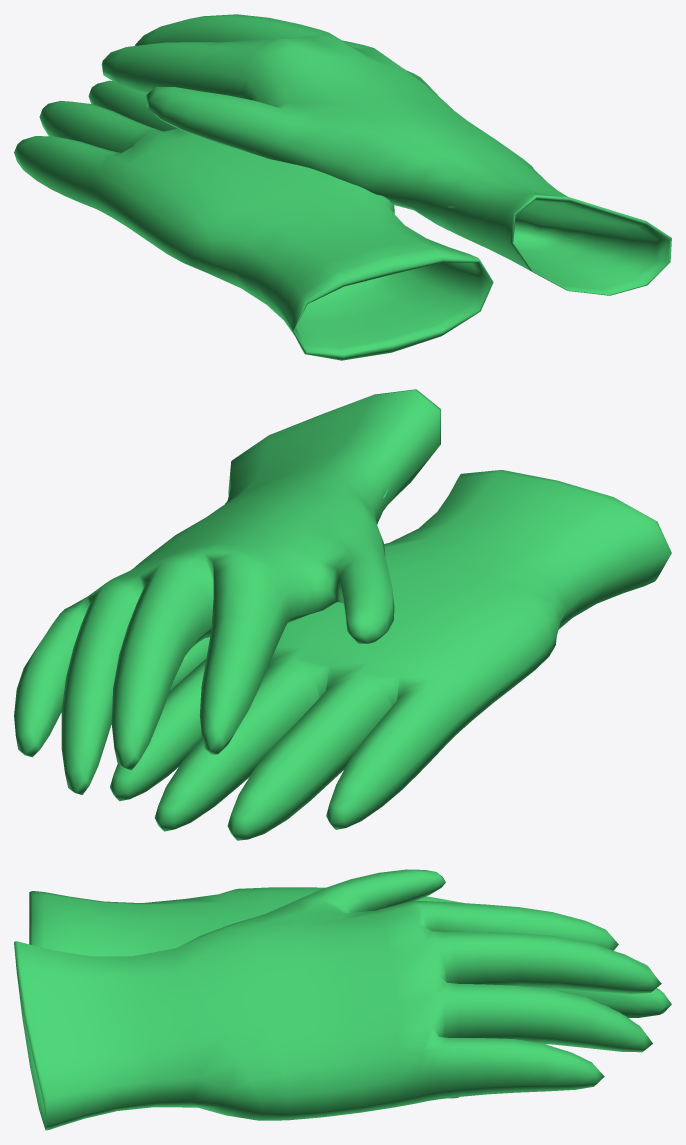
File: Gloves_1.fbx
The picture shows the model from 3 angles, top to bottom: view 1: azimuth 30°, elevation 25°; view 2: azimuth 150°, elevation 25°; view 3: azimuth 270°, elevation 25°; orthographic projection. The views are drawn at different scales.
Visible parts, largest first — view 1: Hand_high.001, Hand_high; view 2: Hand_high, Hand_high.001; view 3: Hand_high.001, Hand_high.
Boxes of the visible parts, x1=… form: Hand_high.001: x1=101, y1=14, x2=671, y2=295; Hand_high: x1=14, y1=80, x2=493, y2=360; Hand_high: x1=110, y1=470, x2=671, y2=840; Hand_high.001: x1=14, y1=389, x2=440, y2=794; Hand_high.001: x1=14, y1=869, x2=661, y2=1130; Hand_high: x1=29, y1=887, x2=671, y2=1098.
Size of the model in its own units: 20.75 by 7.98 by 30.68.
